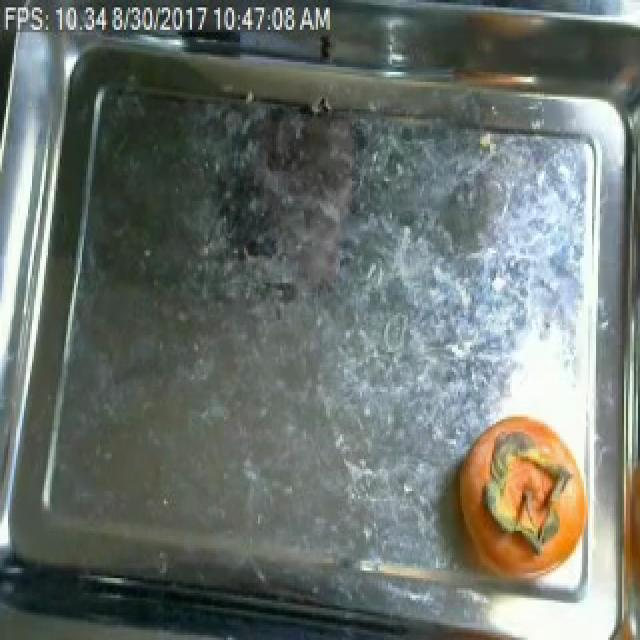Fruit: (456, 409, 580, 536)
